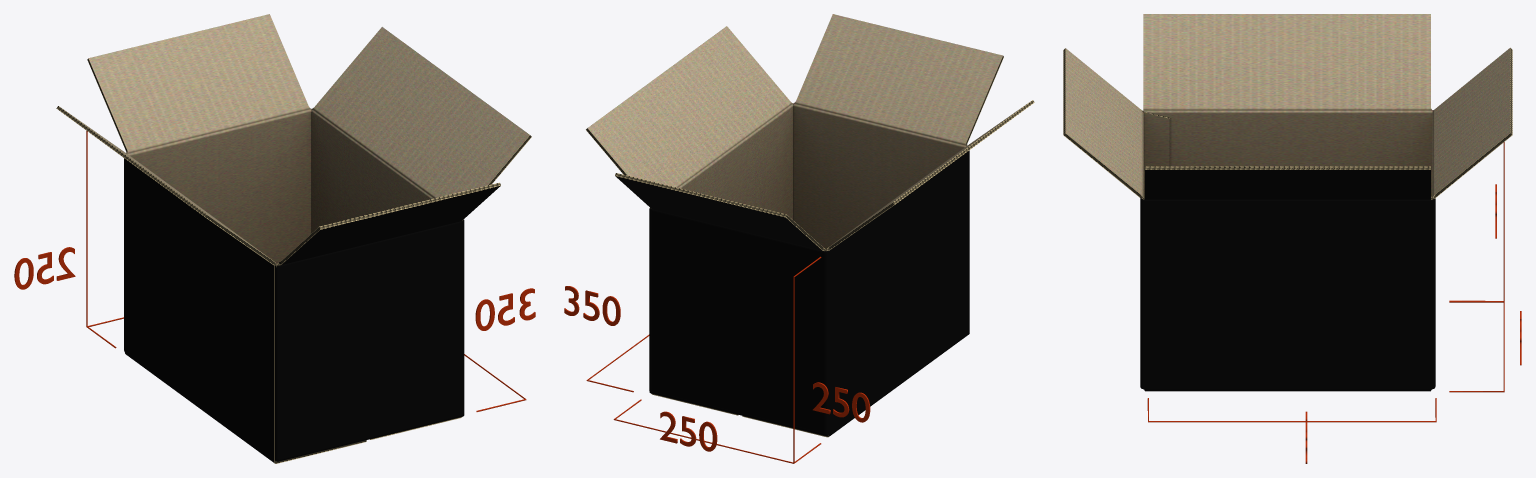
The model's file is 4D BIBLIOTECA.glb.
The picture shows the model from 3 angles, left to right: view 1: azimuth 30°, elevation 25°; view 2: azimuth 150°, elevation 25°; view 3: azimuth 270°, elevation 25°; orthographic projection. The views are drawn at different scales.
Visible parts, largest first — view 1: ARTIOS_ARD-node, Texto.002, Texto.001; view 2: ARTIOS_ARD-node, Texto.001, Texto.002, Texto, Plano.003; view 3: ARTIOS_ARD-node, Plano.002.
Boxes of the visible parts, bbox=[...] form: ARTIOS_ARD-node: bbox=[56, 14, 531, 463]; Texto.002: bbox=[14, 247, 75, 289]; Texto.001: bbox=[475, 288, 535, 330]; ARTIOS_ARD-node: bbox=[586, 14, 1034, 437]; Texto.001: bbox=[564, 286, 620, 325]; Texto.002: bbox=[813, 382, 870, 422]; Texto: bbox=[660, 411, 717, 451]; Plano.003: bbox=[793, 256, 821, 463]; ARTIOS_ARD-node: bbox=[1063, 14, 1512, 391]; Plano.002: bbox=[1147, 398, 1436, 422].
Size of the model in its own units: 0.5633 by 0.3395 by 0.5483.
4 materials, 3 textured.
